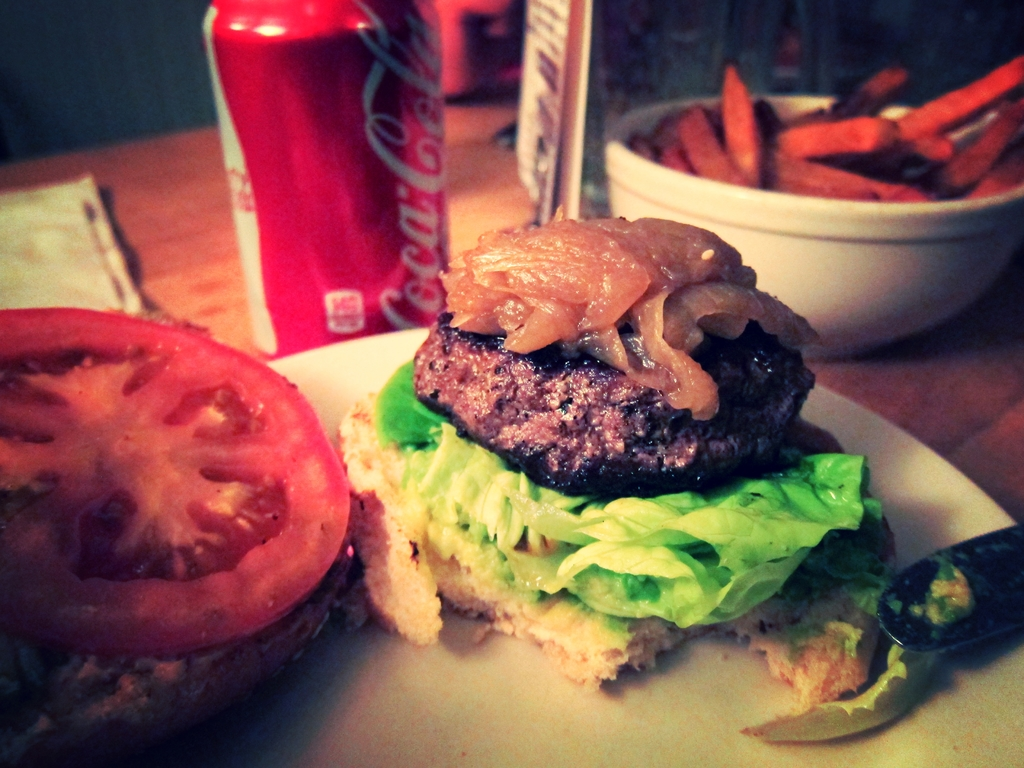sandwich: (341, 214, 890, 689)
